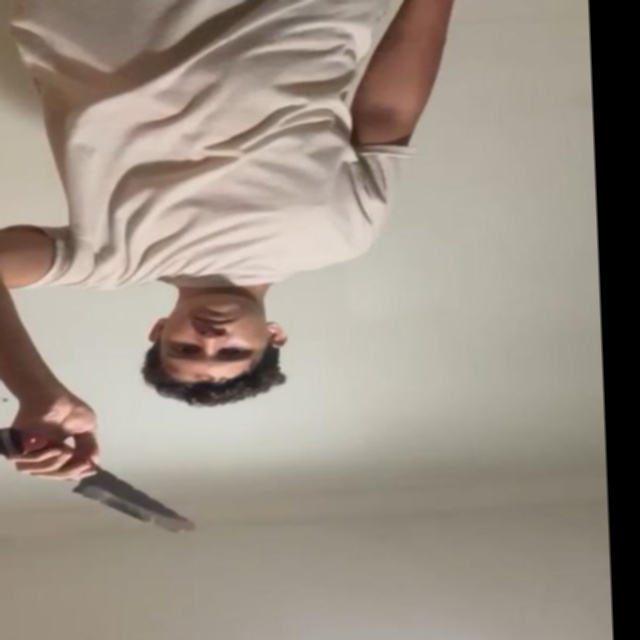Sharp-Object: (73, 475, 201, 536)
